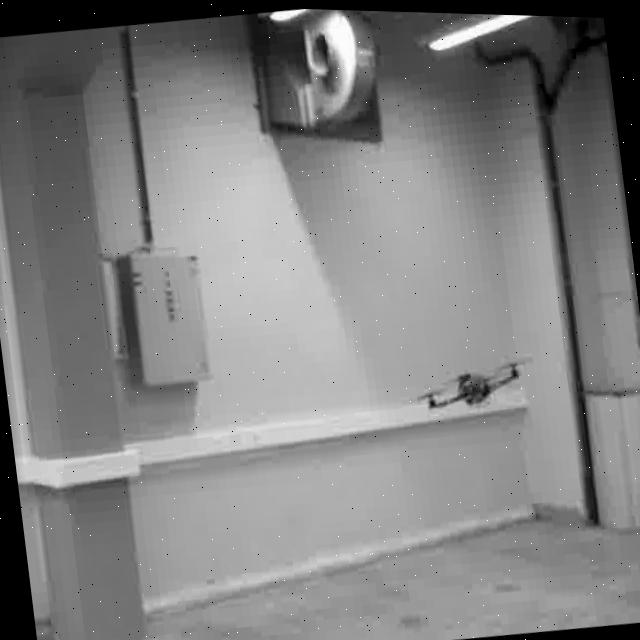drone: (420, 350, 525, 413)
